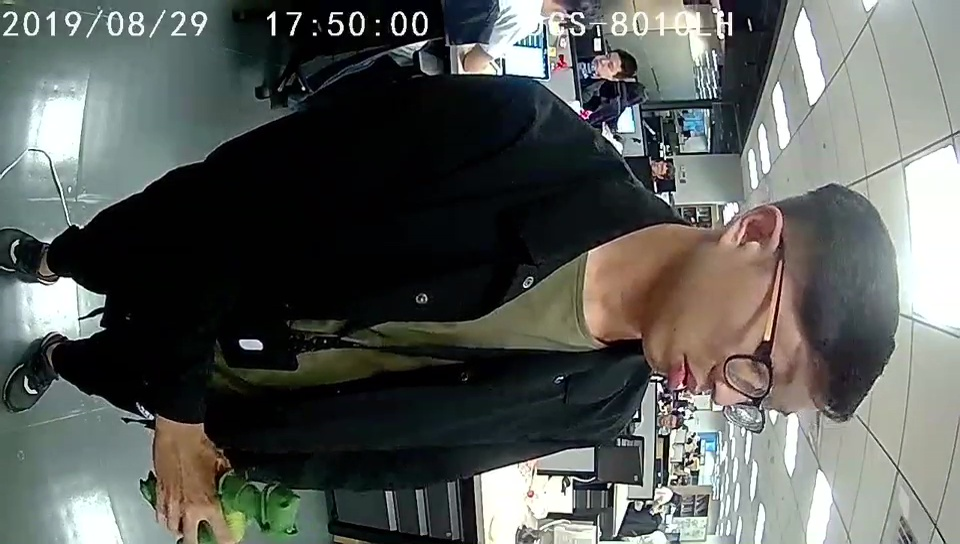rex: (136, 464, 305, 544)
